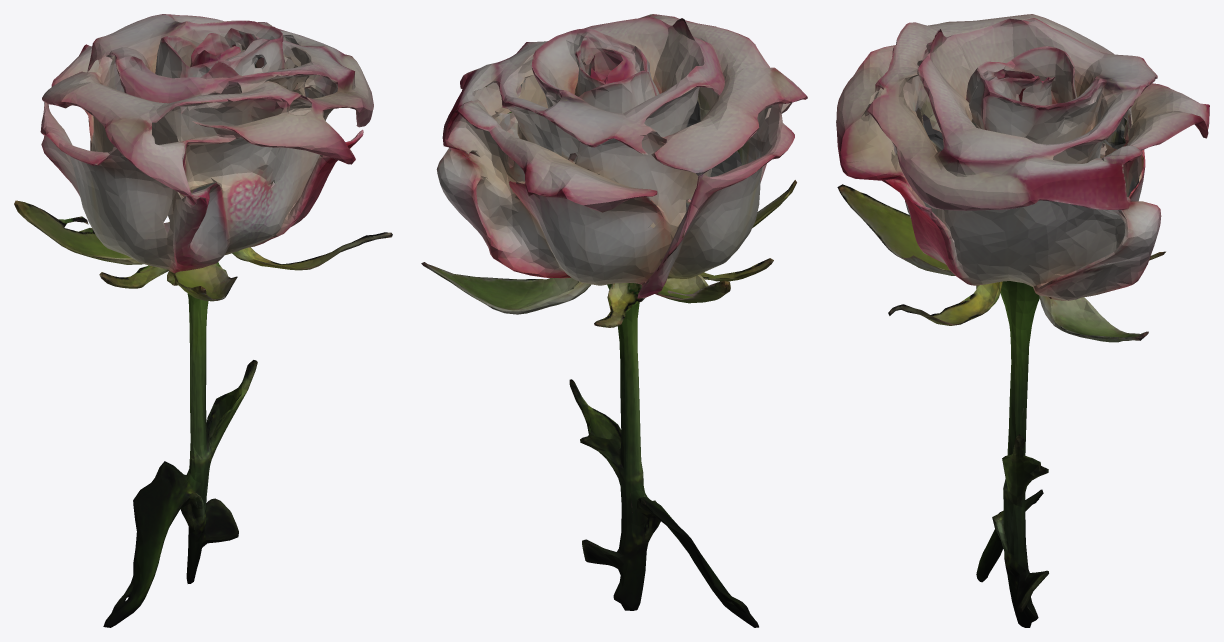
3 renders of one model, left to right at view 1: azimuth 30°, elevation 25°; view 2: azimuth 150°, elevation 25°; view 3: azimuth 270°, elevation 25°, orthographic. The views are drawn at different scales.
Parts seen in each view (by area): view 1: world; view 2: world; view 3: world.
Part boxes in pixels (x1,y1,x2,y2): world: (14, 14, 392, 627); world: (421, 14, 807, 627); world: (836, 14, 1209, 627).
Bounding box in the file's own units: 0.5725 × 0.9897 × 0.5605.
Materials: 1 (1 with a texture image).
